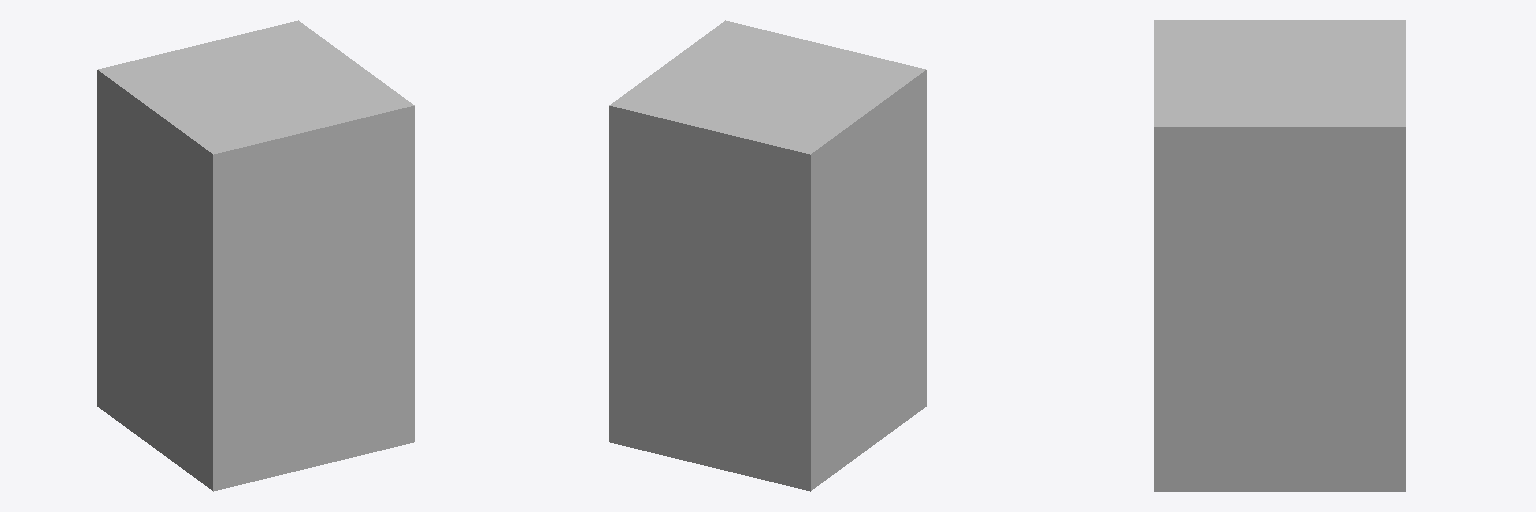
The robot description file, URDF, robot "cup":
<!-- <?xml version="1.0"?>
 <robot name="cup">
  <link name="base_link">
    <visual>
     <geometry>
      <cylinder length="0.10" radius="0.03"/>
     </geometry>
     <material name="red">
      <color rgba=".8 .8 .8 1"/>
     </material>
    </visual>
    <collision>
     <geometry>
      <cylinder length="0.10" radius="0.03"/>
     </geometry>
    </collision>
    <inertial>
      <mass value="10"/>
      <inertia ixx="0.4" ixy="0.0" ixz="0.0" iyy="0.4" iyz="0.0" izz="0.2"/>
    </inertial>
  </link>
 </robot> -->


 <robot name="cup">
  <link name="base_link">
    <inertial>
      <mass value="1" />
      <inertia ixx="0.4" ixy="0.0" ixz="0.0" iyy="0.4" iyz="0.0" izz="0.2"/>
    </inertial>
    <visual>
      <geometry>
        <box size="0.05 0.05 0.08" />
      </geometry>
     <material name="red">
      <color rgba=".8 .8 .8 1"/>
     </material>
    </visual>
    <collision>
      <geometry>
        <box size="0.05 0.05 0.08" />
      </geometry>
    </collision>
  </link>
</robot>

--- What the picture shows (computed from the rendered views, not written in the file) ---
The picture shows the robot from 3 angles, left to right: view 1: azimuth 30°, elevation 25°; view 2: azimuth 150°, elevation 25°; view 3: azimuth 270°, elevation 25°; orthographic projection.
Model cup with 1 links and 0 joints (none), rooted at base_link, posed all joints at 0.
Links seen in each view (by area): view 1: base_link; view 2: base_link; view 3: base_link.
Link boxes in pixels (x1,y1,x2,y2): base_link: [97, 20, 414, 491]; base_link: [609, 20, 926, 491]; base_link: [1154, 20, 1405, 491].
Bounding box of the posed robot: 0.05 × 0.05 × 0.08 m (x, y, z).
Geometry: primitives only (box / cylinder / sphere), no mesh files.